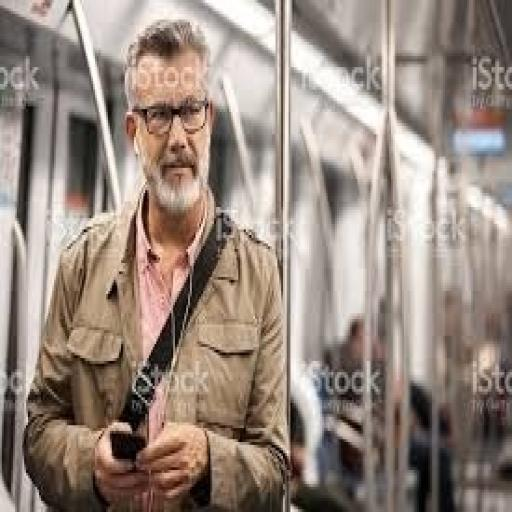listening_to_music: (20, 14, 292, 509)
